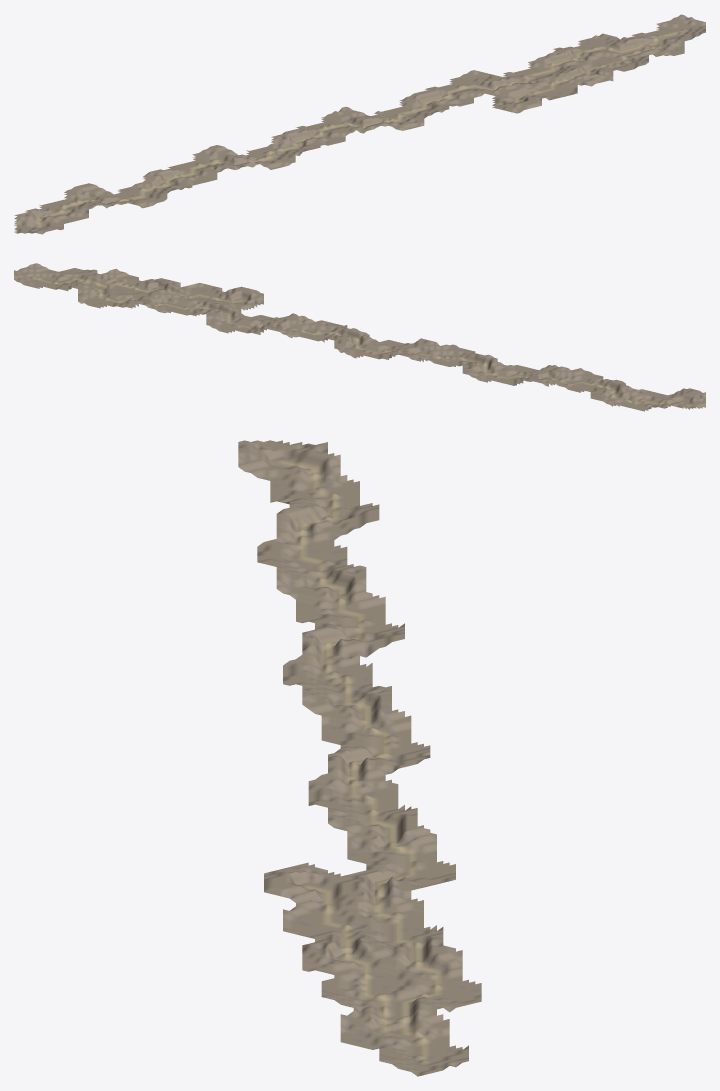
The model's file is terrain.glb.
3 views of the same model, one above another, from view 1: azimuth 30°, elevation 25°; view 2: azimuth 150°, elevation 25°; view 3: azimuth 270°, elevation 25° (orthographic). The views are drawn at different scales.
Parts seen in each view (by area): view 1: NATURAL_15_-2, NATURAL_14_-2, NATURAL_13_-2, NATURAL_3_-1, NATURAL_11_-2, NATURAL_12_-1, NATURAL_8_-2, NATURAL_1_-1, NATURAL_10_-2, NATURAL_2_-1, NATURAL_12_-2, NATURAL_5_-1 (+14 smaller); view 2: NATURAL_1_-1, NATURAL_11_-2, NATURAL_13_-2, NATURAL_12_-2, NATURAL_15_-2, NATURAL_5_-1, NATURAL_6_-1, NATURAL_14_-2, NATURAL_11_-1, NATURAL_2_-1, NATURAL_16_-2, NATURAL_12_-1 (+16 smaller); view 3: NATURAL_14_-2, NATURAL_15_-2, NATURAL_5_-1, NATURAL_11_-2, NATURAL_12_-1, NATURAL_1_-1, NATURAL_2_-1, NATURAL_12_-2, NATURAL_3_-1, NATURAL_13_-2, NATURAL_0_-1, NATURAL_11_-1 (+16 smaller).
Boxes of the visible parts, x1,y1,x2,y2 form: NATURAL_15_-2: (596,36,680,59); NATURAL_14_-2: (556,47,637,69); NATURAL_13_-2: (517,54,593,78); NATURAL_3_-1: (132,169,202,192); NATURAL_11_-2: (428,80,509,101); NATURAL_12_-1: (510,79,577,100); NATURAL_8_-2: (310,107,380,130); NATURAL_1_-1: (39,193,123,215); NATURAL_10_-2: (399,88,465,111); NATURAL_2_-1: (82,186,166,203); NATURAL_12_-2: (467,72,552,87); NATURAL_5_-1: (210,153,294,169); NATURAL_1_-1: (606,380,644,411); NATURAL_11_-2: (222,304,260,334); NATURAL_13_-2: (145,289,183,314); NATURAL_12_-2: (183,298,222,326); NATURAL_15_-2: (68,271,106,298); NATURAL_5_-1: (453,344,491,373); NATURAL_6_-1: (414,338,452,364); NATURAL_14_-2: (107,279,145,304); NATURAL_11_-1: (222,288,260,317); NATURAL_2_-1: (568,371,606,400); NATURAL_16_-2: (30,263,68,287); NATURAL_12_-1: (183,283,222,303); NATURAL_14_-2: (360,941,436,1005); NATURAL_15_-2: (360,984,436,1043); NATURAL_5_-1: (283,629,359,683); NATURAL_11_-2: (360,833,436,891); NATURAL_12_-1: (283,884,359,938); NATURAL_1_-1: (283,481,359,531); NATURAL_2_-1: (283,514,359,569); NATURAL_12_-2: (360,875,436,927); NATURAL_3_-1: (283,559,359,608); NATURAL_13_-2: (360,915,436,968); NATURAL_0_-1: (283,442,353,499); NATURAL_11_-1: (283,856,359,905).
Bounding box in the file's own units: 383 × 2.9 × 61.56.
